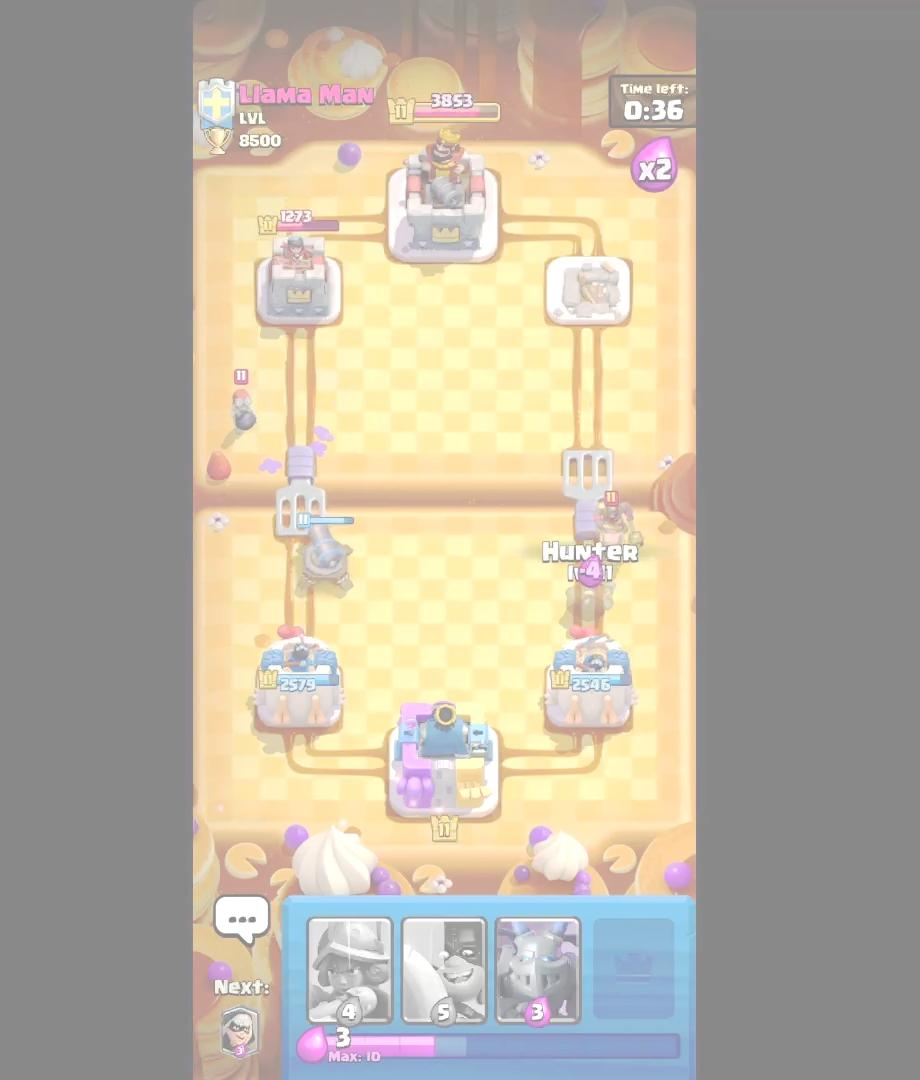Bomber: (227, 363, 262, 438)
Hog Rider: (593, 489, 650, 564)
